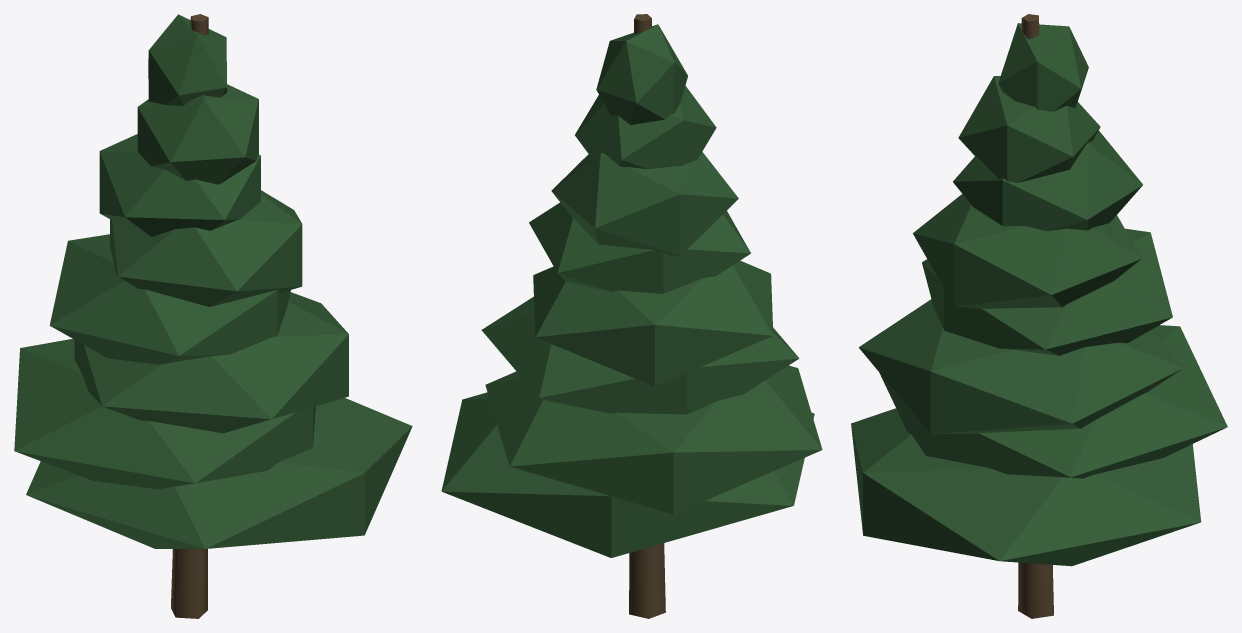
3 views of the same model, side by side, from view 1: azimuth 30°, elevation 25°; view 2: azimuth 150°, elevation 25°; view 3: azimuth 270°, elevation 25° (orthographic).
Visible parts, largest first — view 1: pine-leaf; view 2: pine-leaf; view 3: pine-leaf.
Boxes of the visible parts, left/top/right/bottom form: pine-leaf: left=14, top=14, right=412, bottom=618; pine-leaf: left=441, top=14, right=822, bottom=618; pine-leaf: left=851, top=14, right=1227, bottom=618.
Bounding box in the file's own units: 6.71 × 10.01 × 5.73.
